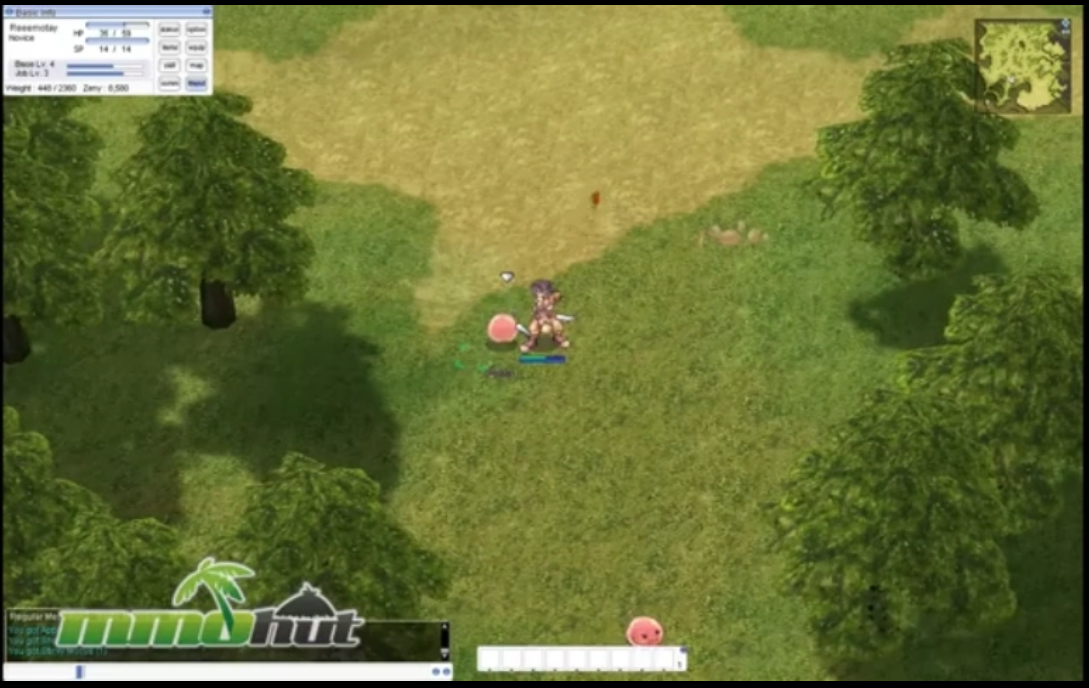porling: (622, 611, 664, 645), (487, 310, 518, 347)
